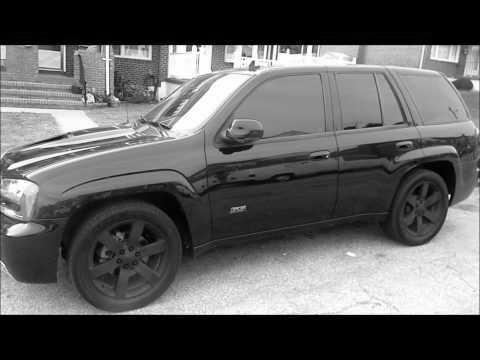car: (1, 63, 480, 315)
